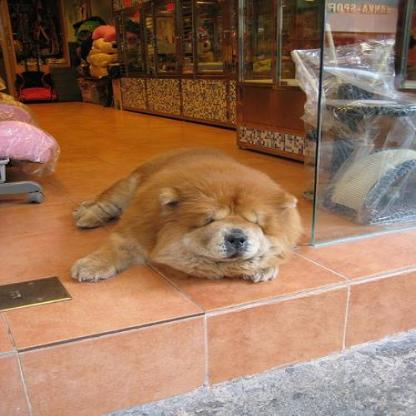chow: (68, 149, 300, 284)
